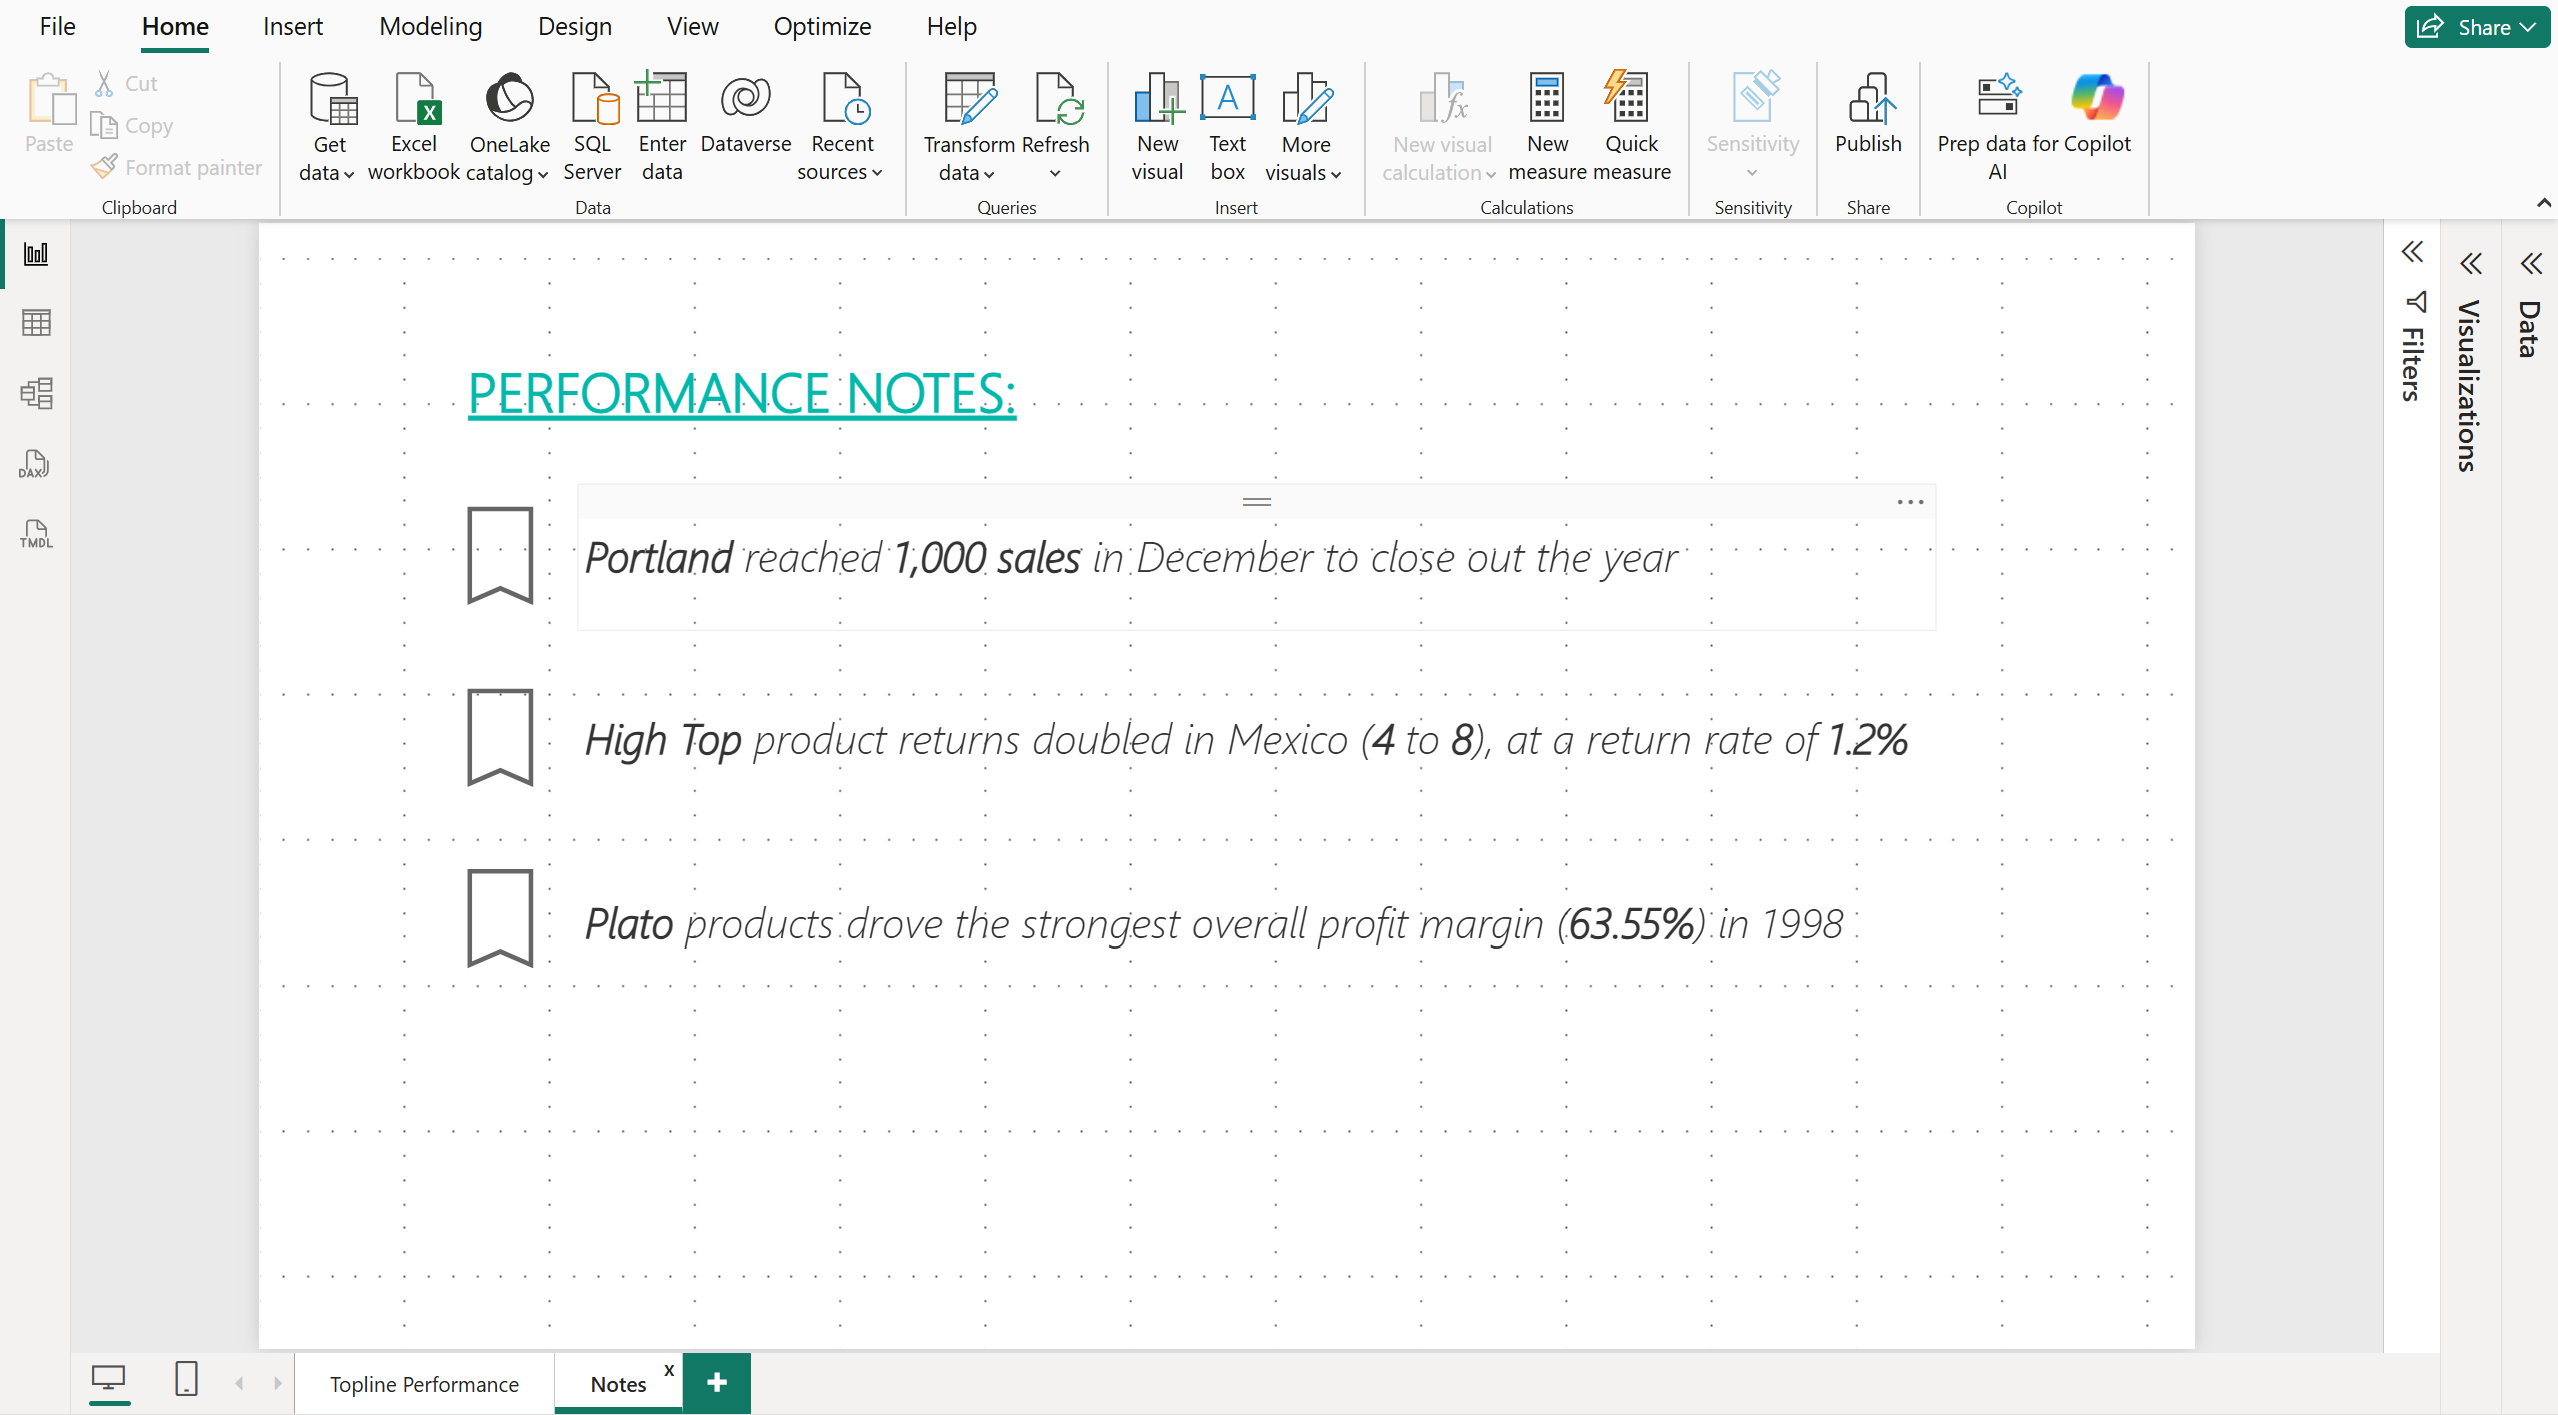

The dashboard page shown, as its layout file describes it:
{"tool":"powerbi","page":{"name":"Notes","canvas":[1280,720],"ordinal":1},"visuals":[{"type":"textbox","box":[210.2,172,899.1,74.4],"z":0},{"type":"textbox","box":[210.5,292.8,970.5,74.4],"z":1000},{"type":"textbox","box":[210.5,414.1,973.2,74.4],"z":2000},{"type":"actionButton","box":[118.7,156.5,108.7,81.2],"z":3000},{"type":"actionButton","box":[118.7,276.1,108.7,81.2],"z":4000},{"type":"actionButton","box":[118.7,395.8,108.7,81.2],"z":5000},{"type":"textbox","box":[132.7,58.3,911.7,60.6],"z":6000}]}

Visuals, with their boxes on the page's 1280x720 design canvas (x1, y1, x2, y2). These are canvas units, not pixel positions in the 2558x1415 screenshot, which may show the page scaled, cropped or inside an application window:
textbox: box=[210, 172, 1109, 246]
textbox: box=[210, 293, 1181, 367]
textbox: box=[210, 414, 1184, 488]
actionButton: box=[119, 156, 227, 238]
actionButton: box=[119, 276, 227, 357]
actionButton: box=[119, 396, 227, 477]
textbox: box=[133, 58, 1044, 119]
